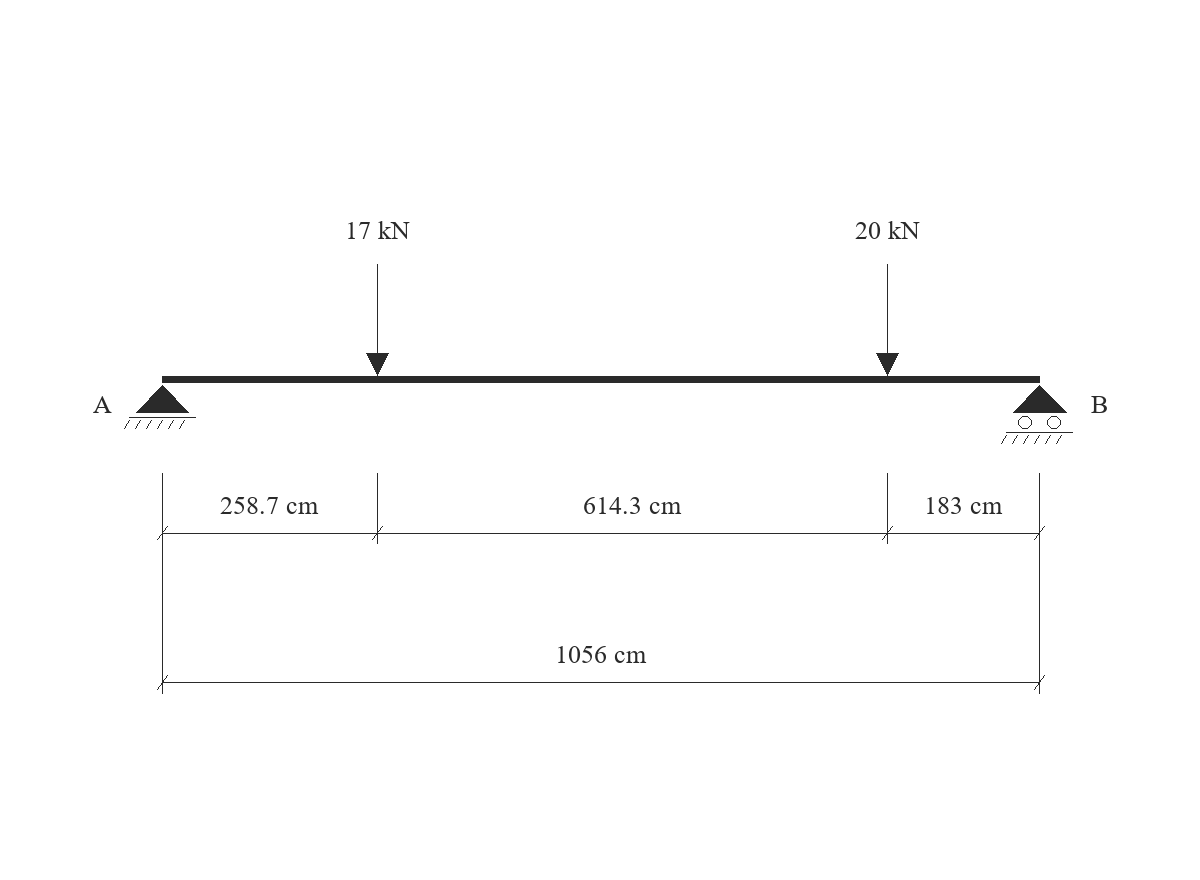pin_support: (124, 385, 196, 429)
point_load: (366, 264, 389, 376), (876, 264, 899, 376)
roller_support: (1001, 385, 1073, 444)
